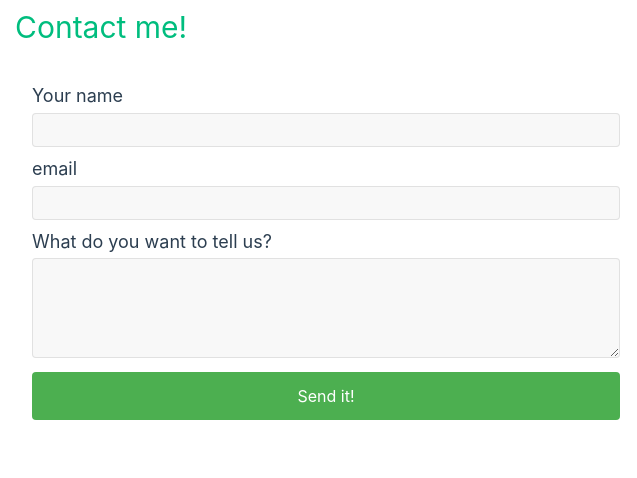
Test case: ContactForm › resets success and failed states before each submission
Step 1. Type "John" into the field with id "name" → (326, 130), box [32,113,620,147]
Step 2. Type "john_john.john@gmail.com" into the field with id "email" → (326, 203), box [32,186,620,220]
Step 3. Type "I am the John from Johns dynasty!" into the text box with id "message" → (326, 308), box [32,258,620,358]
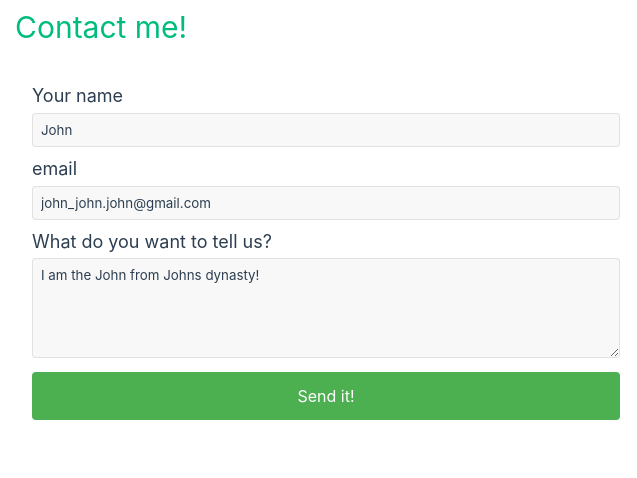
Step 4. Submit the form from the button "Send it!", box [32,372,620,420]
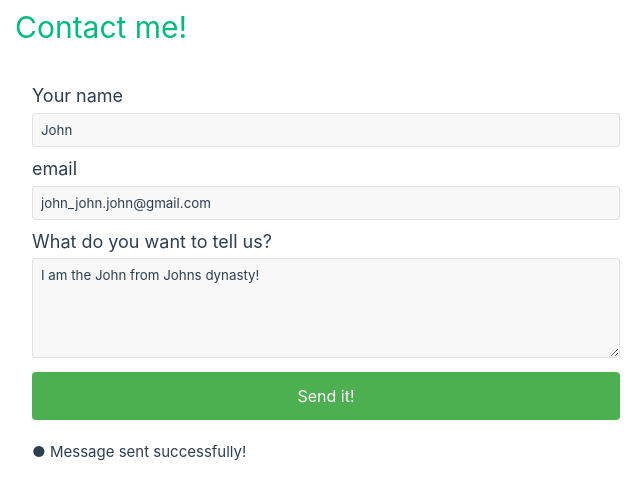
Expected: the text with id "success-message" shows "Message sent successfully", [32,442,246,461]
Step 5. Replace the text in the field with id "name" with "Tamara" → (326, 130), box [32,113,620,147]
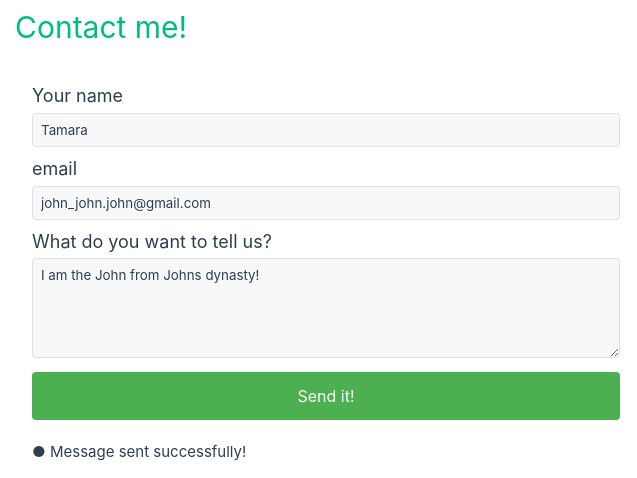
Step 6. Replace the text in the field with id "email" with "tamara@whatever" → (326, 203), box [32,186,620,220]
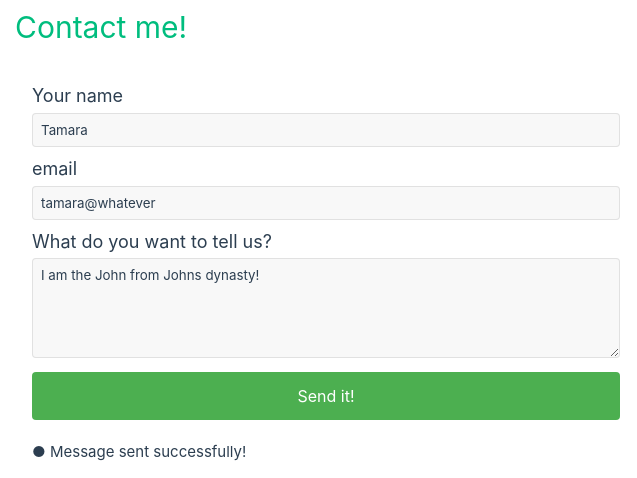
Step 7. Replace the text in the text box with id "message" with "Hi, my name is Tamara. Nice to meet you!" → (326, 308), box [32,258,620,358]
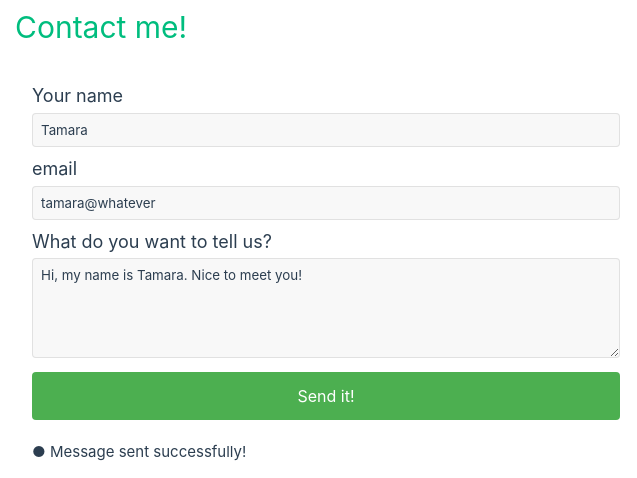
Step 8. Submit the form from the button "Send it!", box [32,372,620,420]
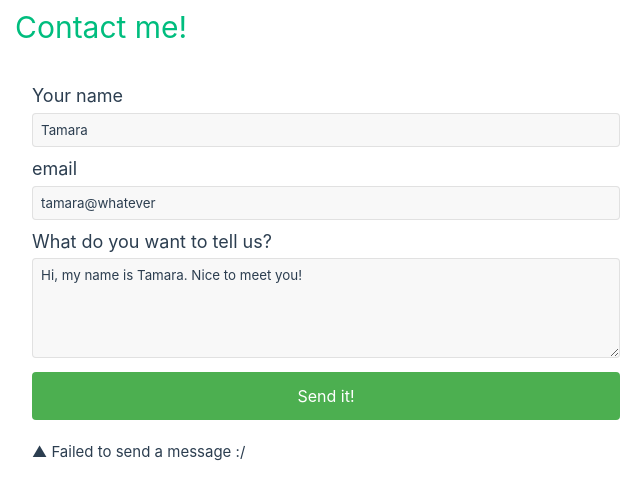
Expected: the text with id "failed-message" shows "Failed to send a message", [32,442,245,461]
